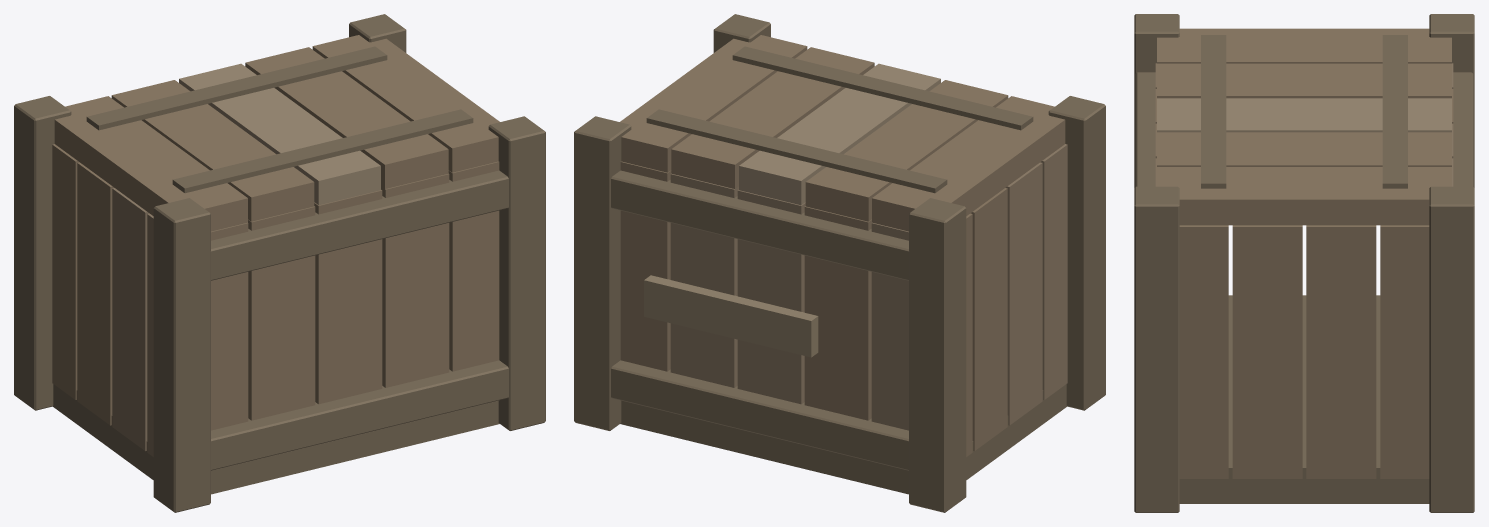
Rendered from env_crate_v07_cleated_lid.glb.
The picture shows the model from 3 angles, left to right: view 1: azimuth 30°, elevation 25°; view 2: azimuth 150°, elevation 25°; view 3: azimuth 270°, elevation 25°; orthographic projection. The views are drawn at different scales.
Parts seen in each view (by area): view 1: material_0, material_2, material_5, material_1; view 2: material_2, material_0, material_5, material_1, material_6; view 3: material_0, material_2, material_1.
Boxes of the visible parts, x1=… form: material_0: x1=52, y1=35, x2=499, y2=469; material_2: x1=14, y1=14, x2=545, y2=512; material_5: x1=112, y1=188, x2=153, y2=456; material_1: x1=179, y1=63, x2=380, y2=205; material_2: x1=574, y1=14, x2=1105, y2=512; material_0: x1=620, y1=35, x2=1065, y2=459; material_5: x1=670, y1=144, x2=1067, y2=469; material_1: x1=739, y1=63, x2=940, y2=205; material_6: x1=644, y1=275, x2=818, y2=357; material_0: x1=1155, y1=28, x2=1453, y2=478; material_2: x1=1134, y1=14, x2=1474, y2=512; material_1: x1=1157, y1=98, x2=1451, y2=132.
Bounding box in the file's own units: 0.8 × 0.6 × 0.6.
